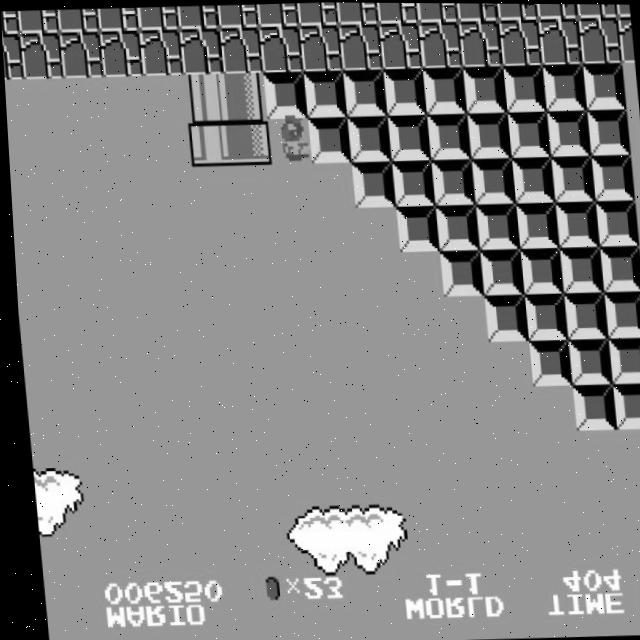11- little_mario: (267, 114, 315, 164)
14- pipe: (181, 73, 227, 120), (221, 72, 266, 119)
15- pipe_head: (225, 117, 270, 165), (185, 119, 230, 166)
17- undestructible_block: (337, 22, 383, 70), (377, 21, 423, 68), (417, 20, 463, 67), (138, 28, 183, 76), (577, 15, 622, 63), (18, 32, 63, 79), (58, 31, 103, 78), (98, 30, 143, 77), (178, 27, 223, 74), (218, 26, 263, 73), (258, 25, 303, 72), (298, 24, 343, 71), (457, 19, 502, 66), (497, 18, 542, 65), (537, 17, 582, 64), (56, 8, 99, 33), (216, 3, 259, 28), (256, 2, 299, 27), (16, 9, 60, 33), (96, 7, 139, 31), (136, 6, 179, 30), (176, 5, 219, 29), (295, 2, 338, 25), (2, 33, 23, 80), (335, 2, 378, 24), (375, 2, 418, 22), (415, 2, 458, 22), (617, 15, 634, 61), (455, 3, 498, 21), (495, 3, 538, 19), (535, 3, 578, 18), (575, 3, 618, 17), (0, 10, 20, 34), (615, 4, 630, 16)
9- hard_block: (519, 292, 565, 340), (504, 109, 550, 157), (348, 160, 394, 207), (392, 204, 438, 251), (559, 291, 605, 338), (544, 108, 590, 155), (584, 107, 630, 154), (341, 68, 386, 116), (425, 111, 470, 159), (523, 337, 568, 385), (592, 198, 637, 246), (581, 61, 626, 109), (261, 71, 306, 118), (305, 115, 350, 162), (301, 70, 346, 117), (345, 114, 390, 161), (385, 113, 430, 160), (381, 67, 426, 114), (436, 249, 481, 296), (432, 203, 477, 250), (421, 66, 466, 113), (480, 293, 525, 340), (472, 202, 517, 249), (465, 111, 510, 158), (461, 65, 506, 112), (516, 247, 561, 294), (512, 201, 557, 248), (501, 64, 546, 111), (563, 337, 608, 384), (552, 200, 597, 247), (541, 63, 586, 110), (588, 153, 633, 200), (388, 159, 433, 205), (428, 158, 473, 204), (476, 248, 521, 294), (468, 157, 513, 203), (508, 156, 553, 202), (567, 383, 612, 429), (556, 246, 601, 292), (548, 155, 593, 201), (595, 245, 640, 291), (599, 290, 640, 337), (603, 335, 640, 383), (607, 382, 640, 428)
